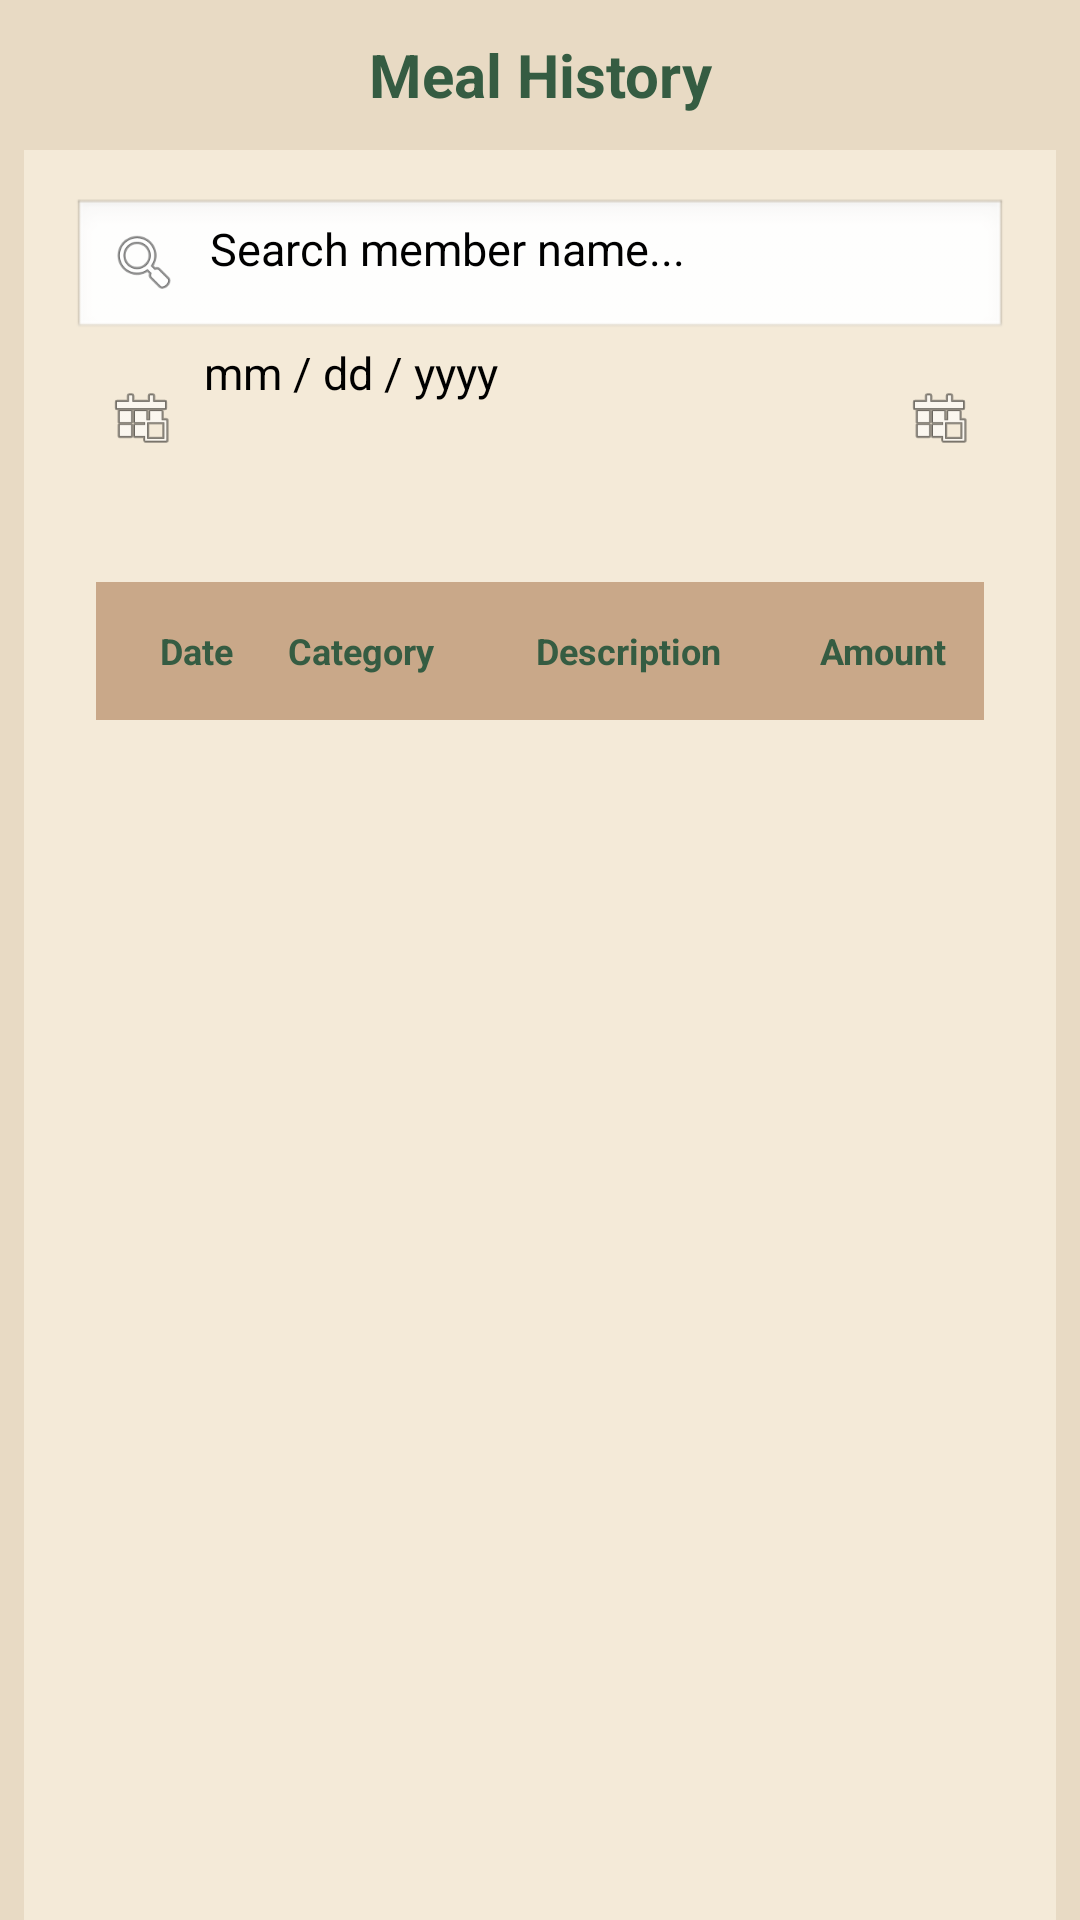

Screen size 1080x1920. Icon name, then its box in pixels as (left=x1, top=y1, right=x2, bottom=y2):
today: (left=114, top=393, right=169, bottom=443), (left=912, top=393, right=967, bottom=443)
